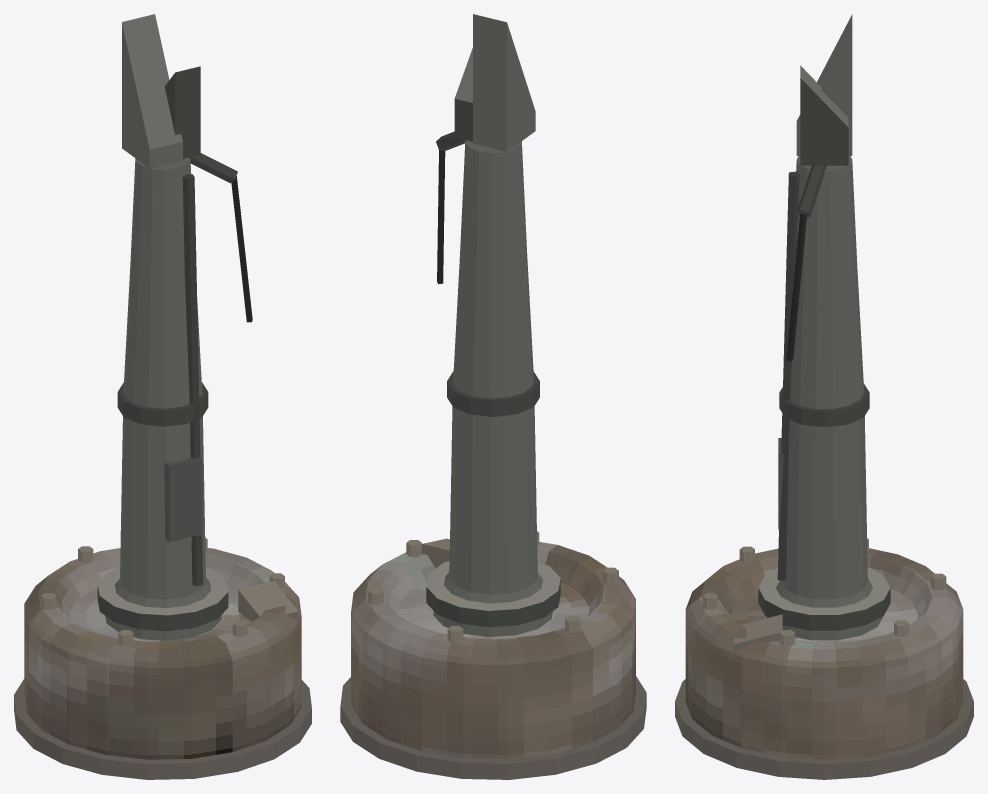
File: Building_AncientLamp__A.glb
The picture shows the model from 3 angles, left to right: view 1: azimuth 30°, elevation 25°; view 2: azimuth 150°, elevation 25°; view 3: azimuth 270°, elevation 25°; orthographic projection. The views are drawn at different scales.
Parts seen in each view (by area): view 1: AncientLamp__A; view 2: AncientLamp__A; view 3: AncientLamp__A.
Boxes of the visible parts, x1,y1,x2,y2 form: AncientLamp__A: (14, 14, 311, 779); AncientLamp__A: (340, 14, 646, 779); AncientLamp__A: (675, 14, 973, 779).
Bounding box in the file's own units: 0.86 × 2.19 × 0.86.
1 material, 1 textured.
